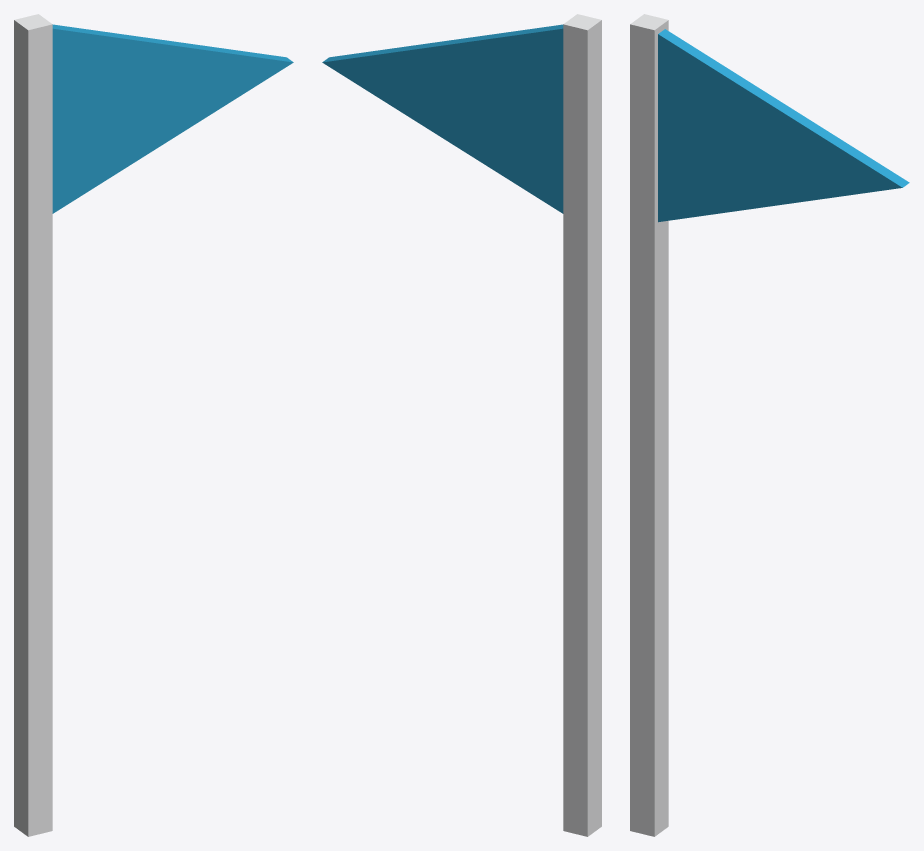
The model's file is Flag_blue_01.glb.
3 renders of one model, left to right at view 1: azimuth 30°, elevation 25°; view 2: azimuth 150°, elevation 25°; view 3: azimuth 330°, elevation 25°, orthographic.
Parts seen in each view (by area): view 1: Mesh1 Flag_blue Model; view 2: Mesh1 Flag_blue Model; view 3: Mesh1 Flag_blue Model.
Boxes of the visible parts, box(x1,y1,x2,y2) form: Mesh1 Flag_blue Model: box(14, 14, 293, 836); Mesh1 Flag_blue Model: box(322, 14, 601, 836); Mesh1 Flag_blue Model: box(630, 14, 909, 836).
Bounding box in the file's own units: 2.2 × 6.3 × 0.2.
